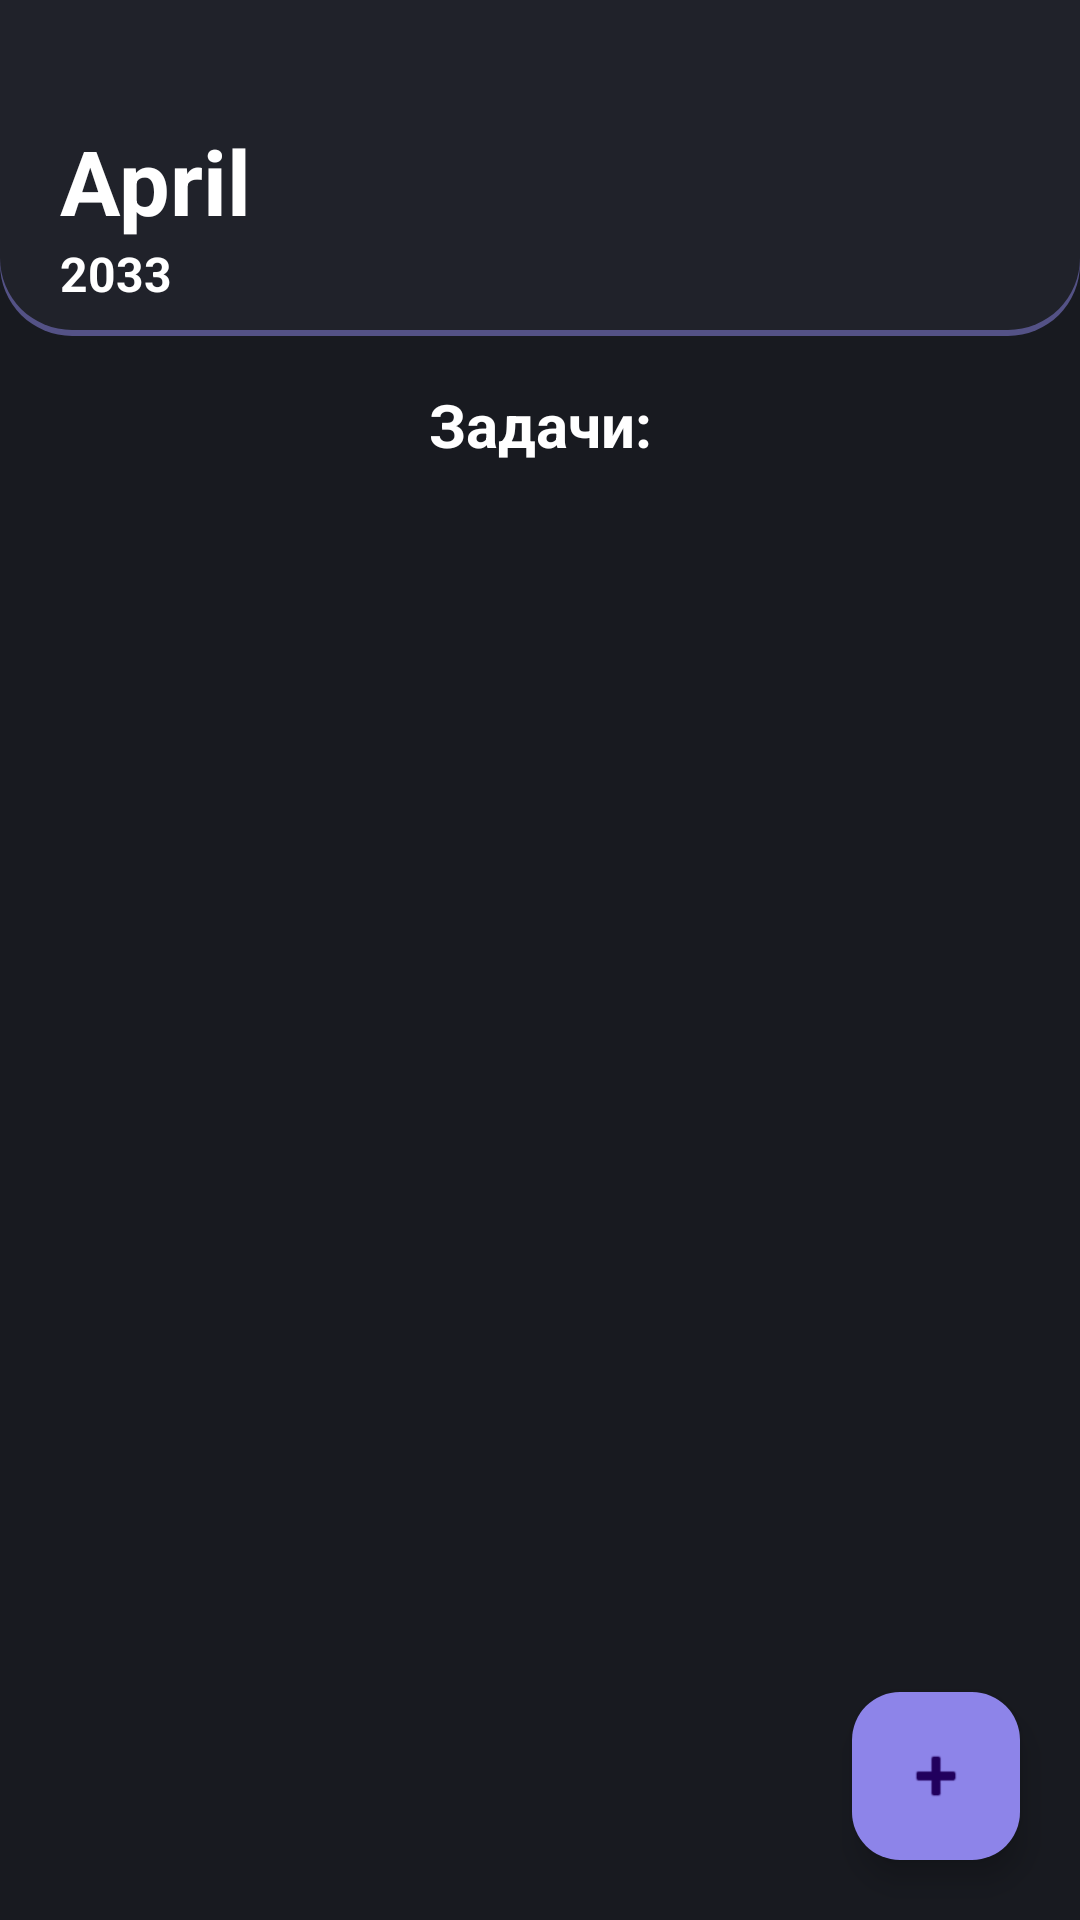

Locate icon controls on the screen. Image size 1080px x 1920px, boxes as Rect(x1, y1, x2, y2).
Добавить задачу: Rect(852, 1692, 1020, 1860)
